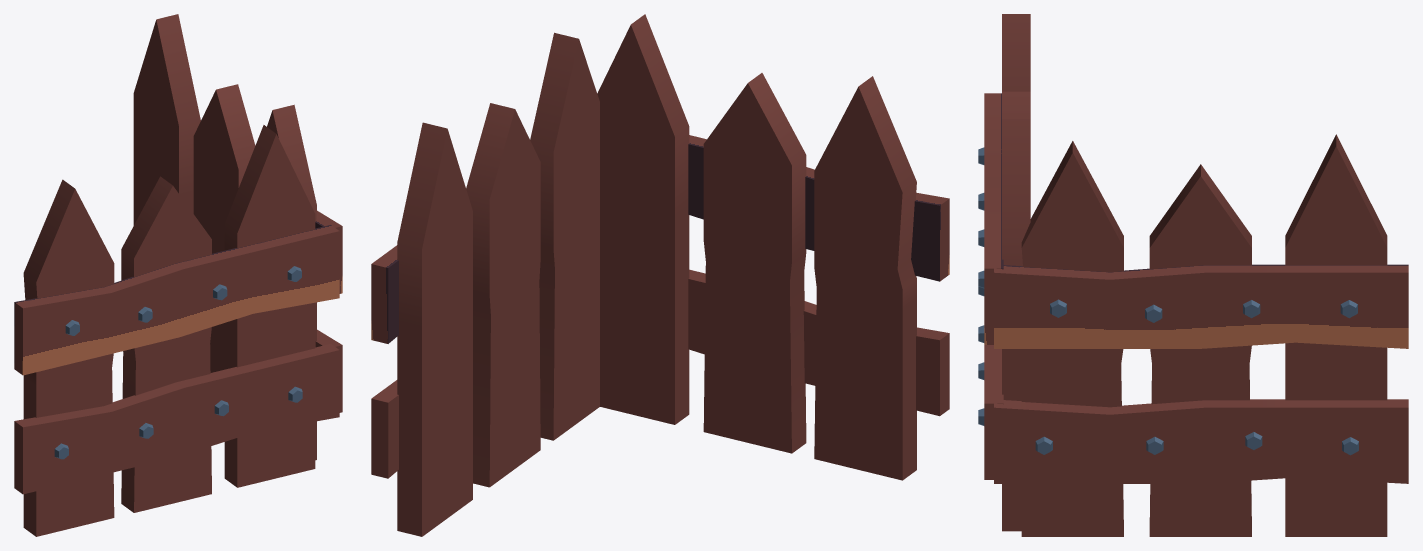
Rendered from Valla_03.fbx.
The picture shows the model from 3 angles, left to right: view 1: azimuth 30°, elevation 25°; view 2: azimuth 150°, elevation 25°; view 3: azimuth 270°, elevation 25°; orthographic projection. The views are drawn at different scales.
Parts seen in each view (by area): view 1: Valla_03; view 2: Valla_03; view 3: Valla_03.
Part boxes in pixels (box(x1,y1,x2,y2)): Valla_03: box(14, 14, 342, 536); Valla_03: box(371, 14, 949, 536); Valla_03: box(978, 14, 1408, 536).
Size of the model in its own units: 250 by 250 by 250.
